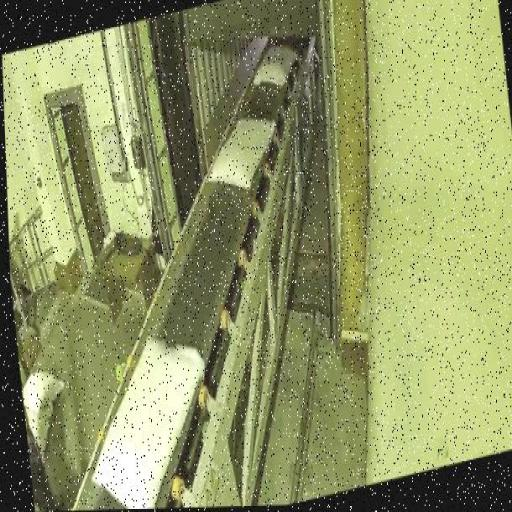c-belt-sack-count: (93, 338, 203, 506), (207, 120, 274, 187), (254, 46, 296, 88)
